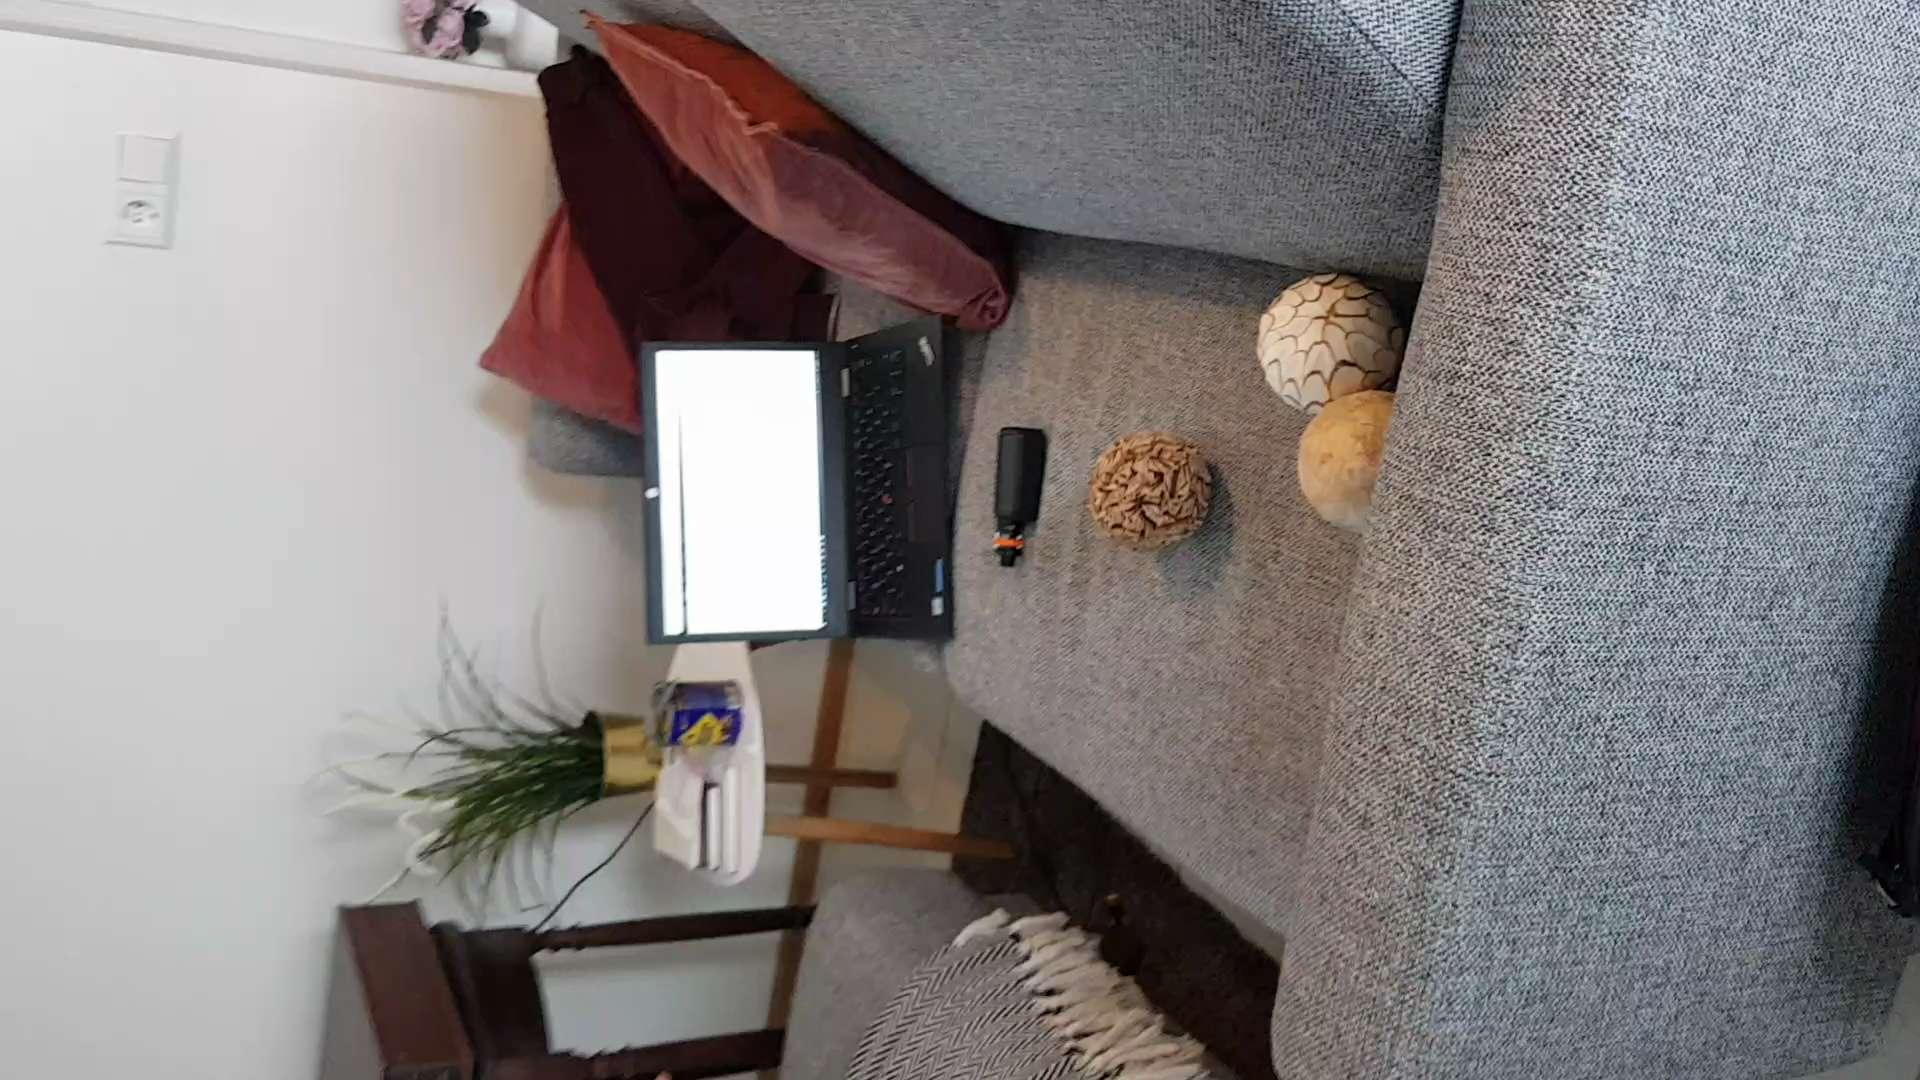Sphere: (1246, 258, 1398, 413)
sphere: (1087, 419, 1222, 549)
